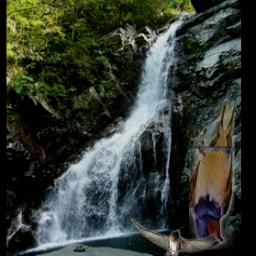Swallow: (189, 100, 235, 250), (131, 219, 218, 256)
